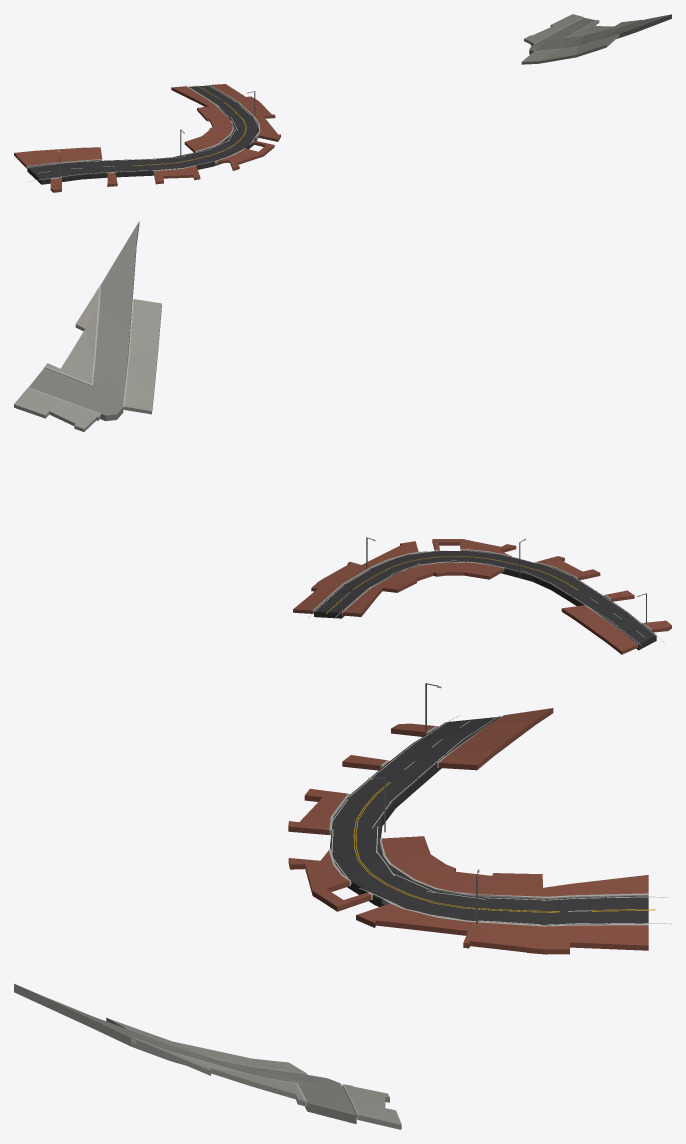
3 renders of one model, top to bottom at view 1: azimuth 30°, elevation 25°; view 2: azimuth 150°, elevation 25°; view 3: azimuth 270°, elevation 25°, orthographic. The views are drawn at different scales.
Size of the model in its own units: 150 by 33.54 by 82.24.
